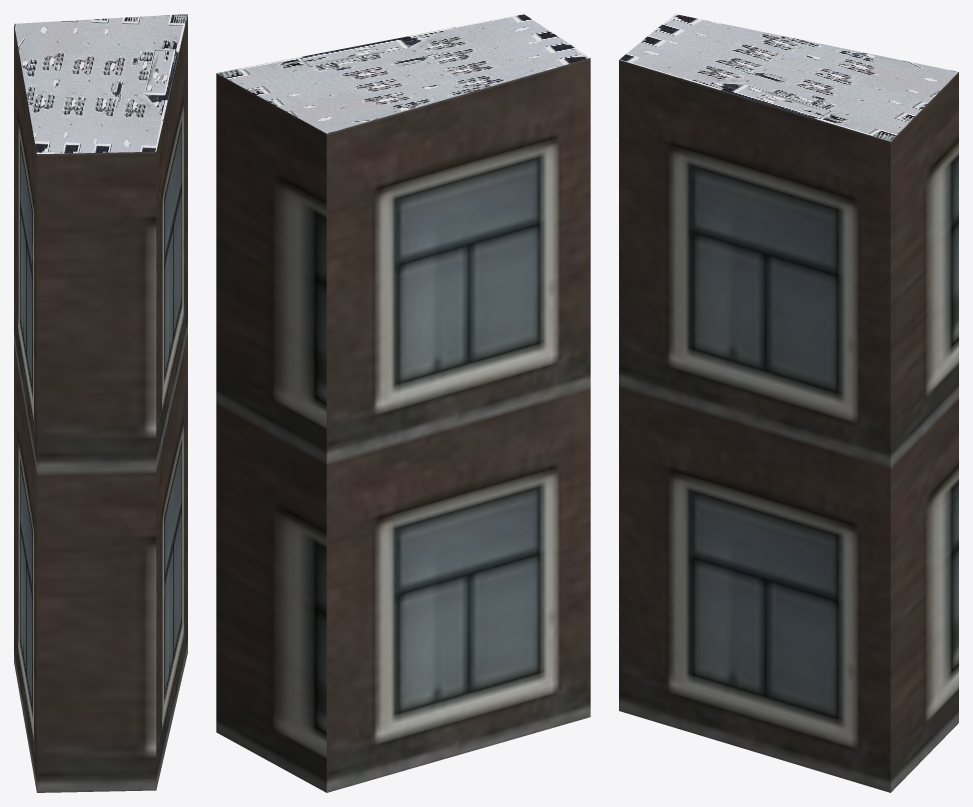
Rendered from ResTex__2246.fbx.
3 renders of one model, left to right at view 1: azimuth 30°, elevation 25°; view 2: azimuth 150°, elevation 25°; view 3: azimuth 270°, elevation 25°, orthographic. The views are drawn at different scales.
Parts seen in each view (by area): view 1: CityEngineMaterial_16_m, CityEngineMaterial_15_m; view 2: CityEngineMaterial_16_m, CityEngineMaterial_15_m; view 3: CityEngineMaterial_16_m, CityEngineMaterial_15_m.
Boxes of the visible parts, <box> form: CityEngineMaterial_16_m: <box>14,14,187,792</box>; CityEngineMaterial_15_m: <box>14,14,187,153</box>; CityEngineMaterial_16_m: <box>216,58,590,792</box>; CityEngineMaterial_15_m: <box>216,14,590,133</box>; CityEngineMaterial_16_m: <box>619,60,958,792</box>; CityEngineMaterial_15_m: <box>619,14,958,141</box>.
Size of the model in its own units: 2.52 by 6 by 2.84.
Materials: 2 (2 with a texture image).
